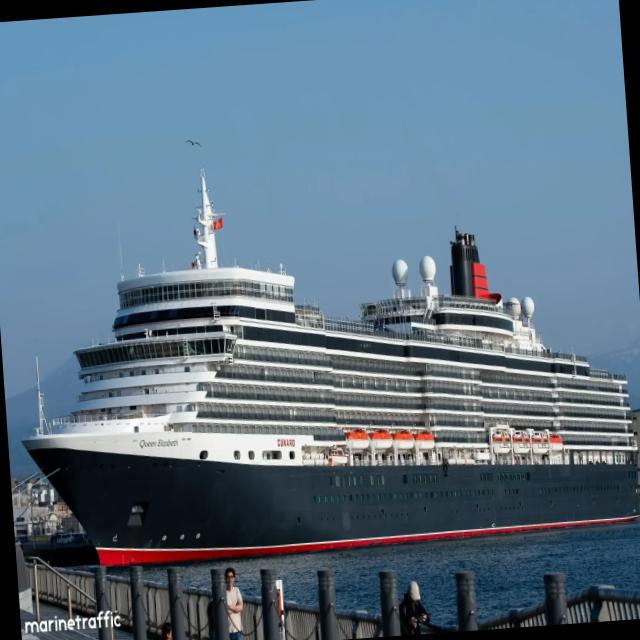Cruise: (23, 168, 640, 565)
